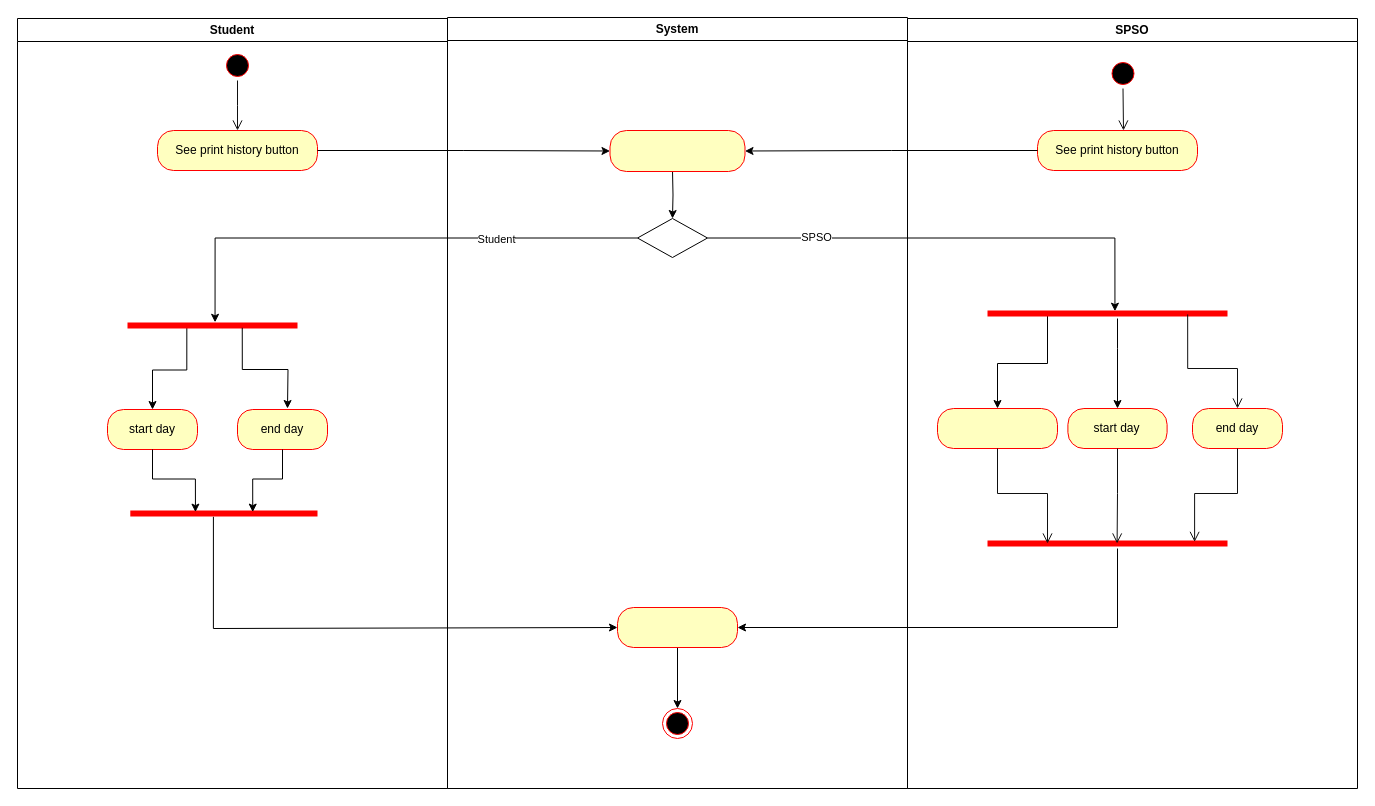
Image size: 1375x806. Some labels were removed from this diagram. Each missing label, with the centre of its shape:
Choose printing log Id: pixel 997 428
Show list printing log: pixel 677 151
Show required printing log lists: pixel 677 627
